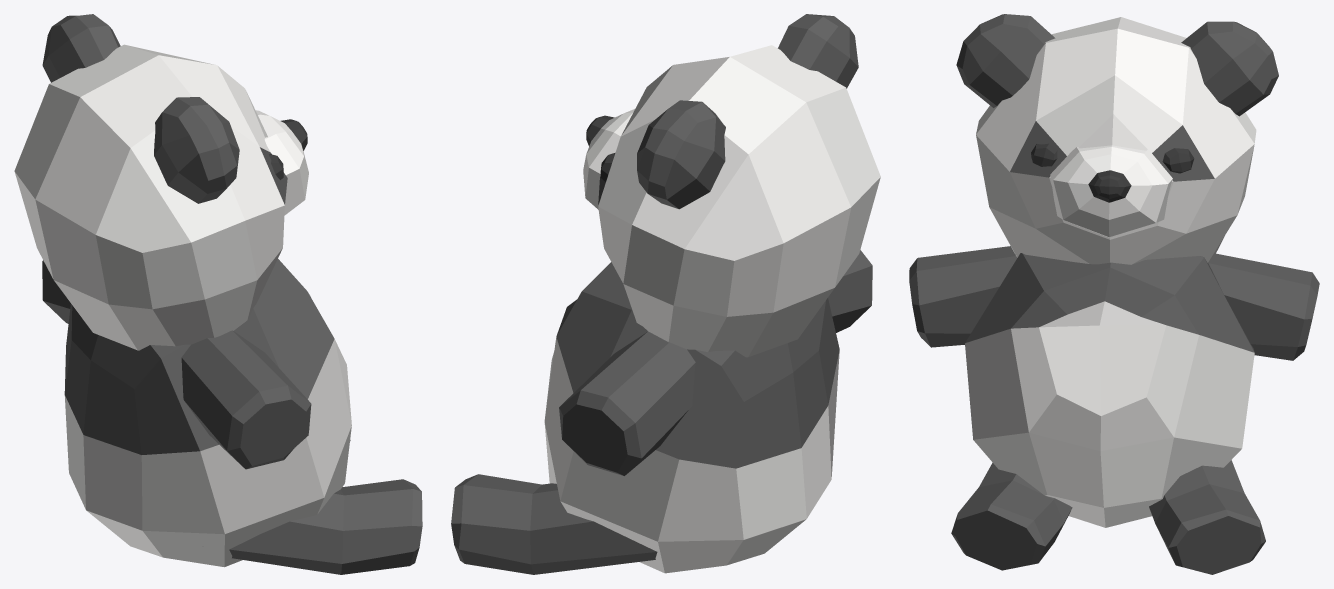
The model's file is Panda_Toy.fbx.
3 renders of one model, left to right at view 1: azimuth 30°, elevation 25°; view 2: azimuth 150°, elevation 25°; view 3: azimuth 270°, elevation 25°, orthographic. The views are drawn at different scales.
Parts seen in each view (by area): view 1: Panda_Toy; view 2: Panda_Toy; view 3: Panda_Toy.
Part boxes in pixels (x1,y1,x2,y2): Panda_Toy: [14, 14, 422, 574]; Panda_Toy: [451, 14, 880, 574]; Panda_Toy: [909, 14, 1319, 574].
Bounding box in the file's own units: 52.82 × 59.71 × 74.59.
